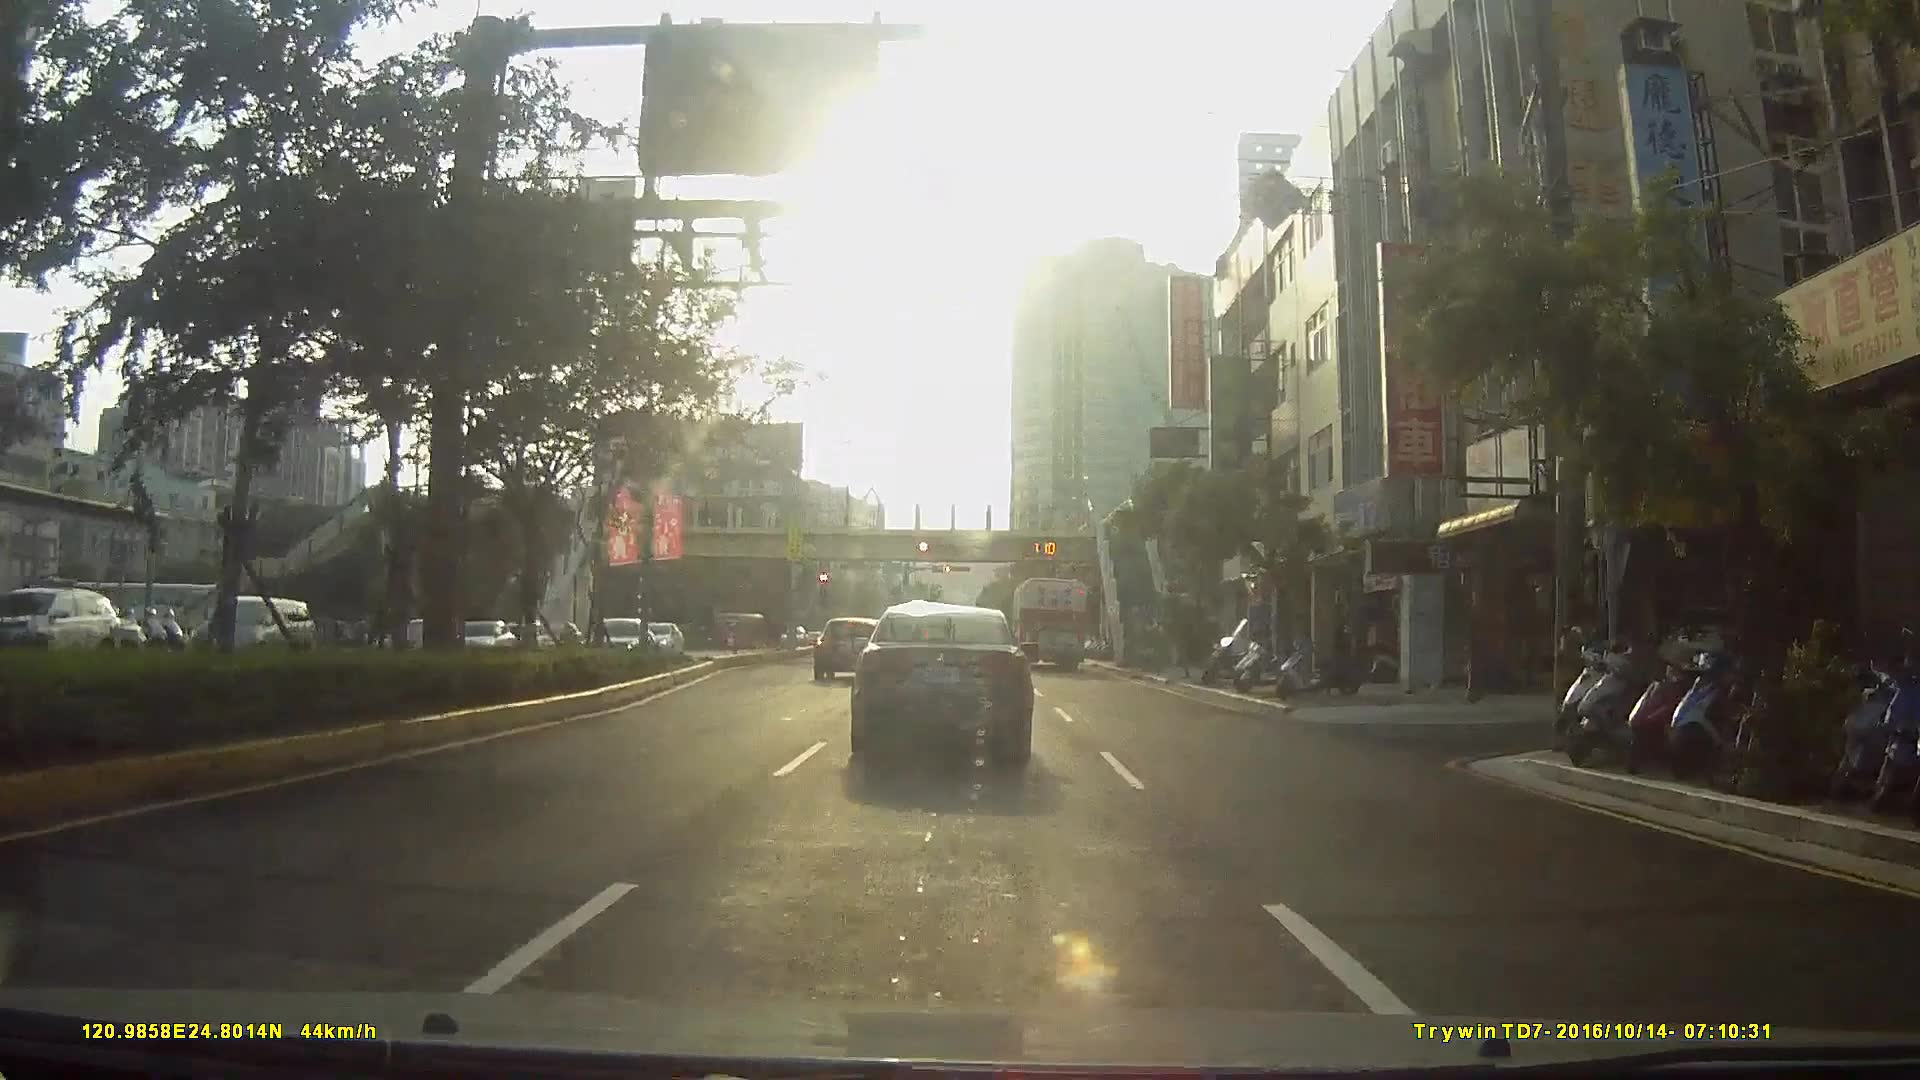vehicle: (848, 603, 1034, 764), (189, 593, 313, 665), (447, 560, 539, 654), (1007, 575, 1091, 674), (814, 615, 882, 682)
